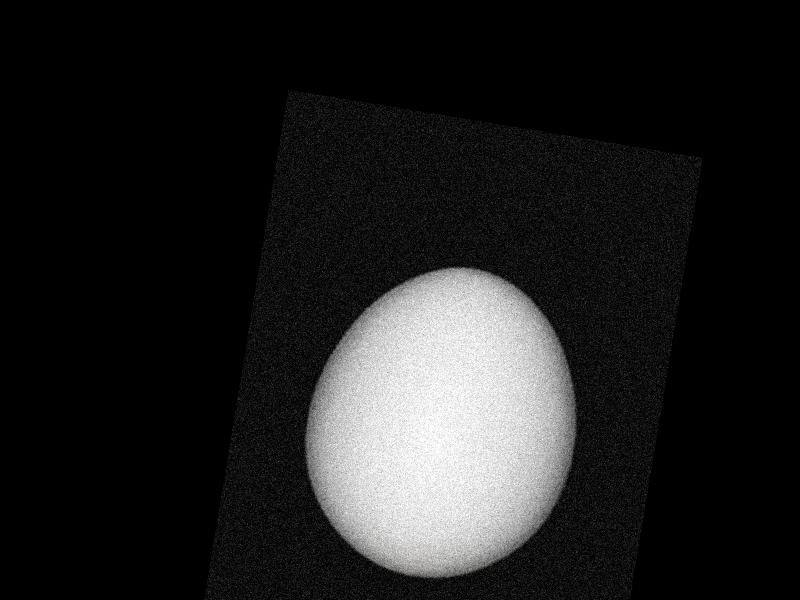Eggs: (286, 249, 599, 597)
